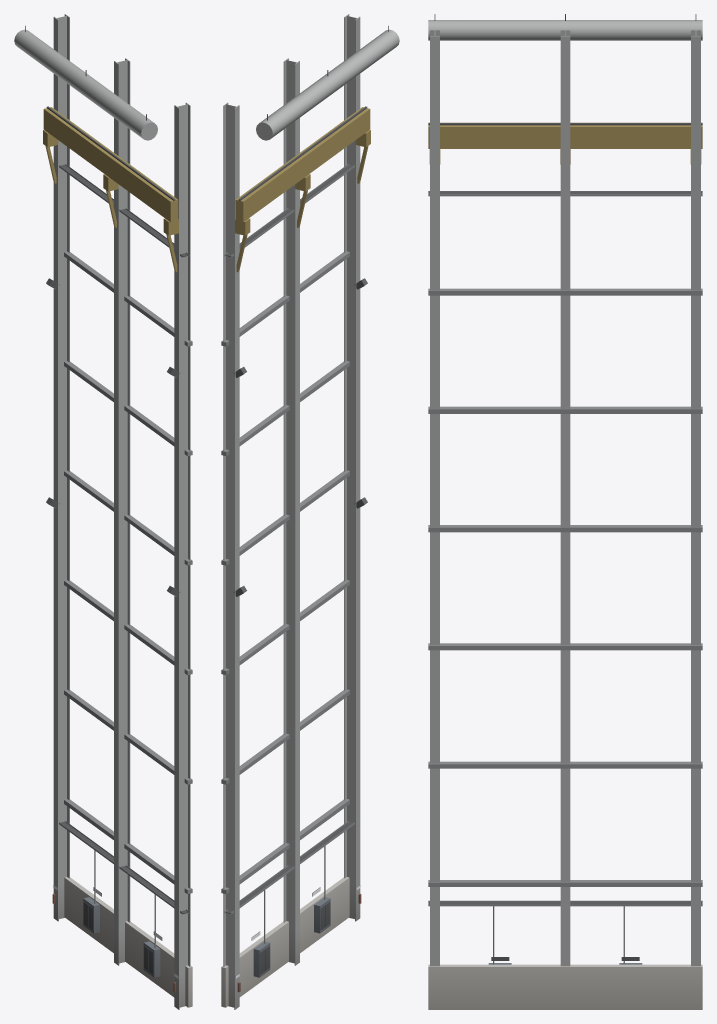
The model's file is wall_e_m.glb.
3 renders of one model, left to right at view 1: azimuth 30°, elevation 25°; view 2: azimuth 150°, elevation 25°; view 3: azimuth 270°, elevation 25°, orthographic. The views are drawn at different scales.
Parts seen in each view (by area): view 1: wall_e_m; view 2: wall_e_m; view 3: wall_e_m.
Boxes of the visible parts, <box> form: wall_e_m: <box>14,14,192,1009</box>; wall_e_m: <box>221,14,399,1009</box>; wall_e_m: <box>428,14,702,1009</box>.
Size of the model in its own units: 3.95 by 65.85 by 16.8.
